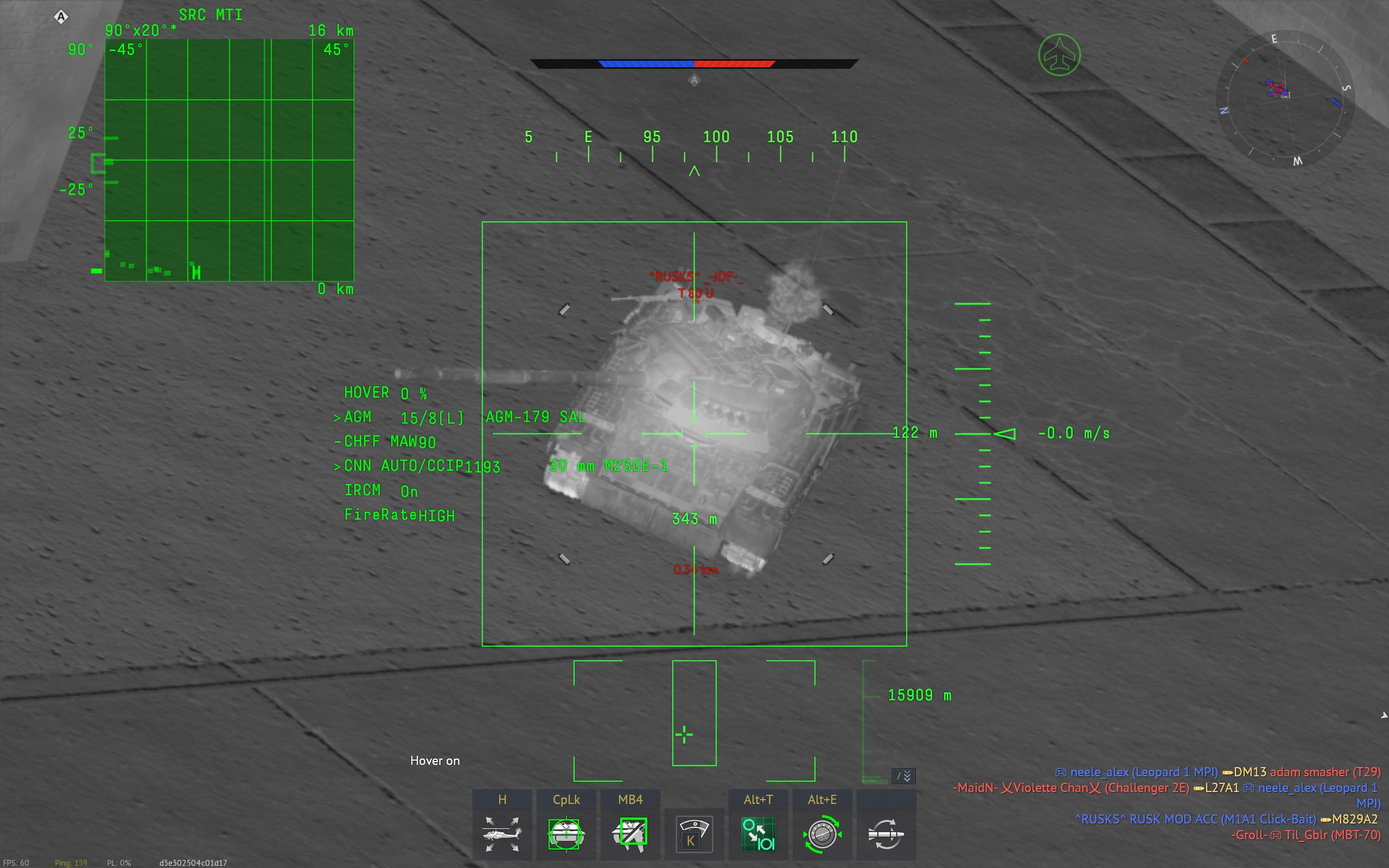t-80u: (393, 276, 862, 575)
